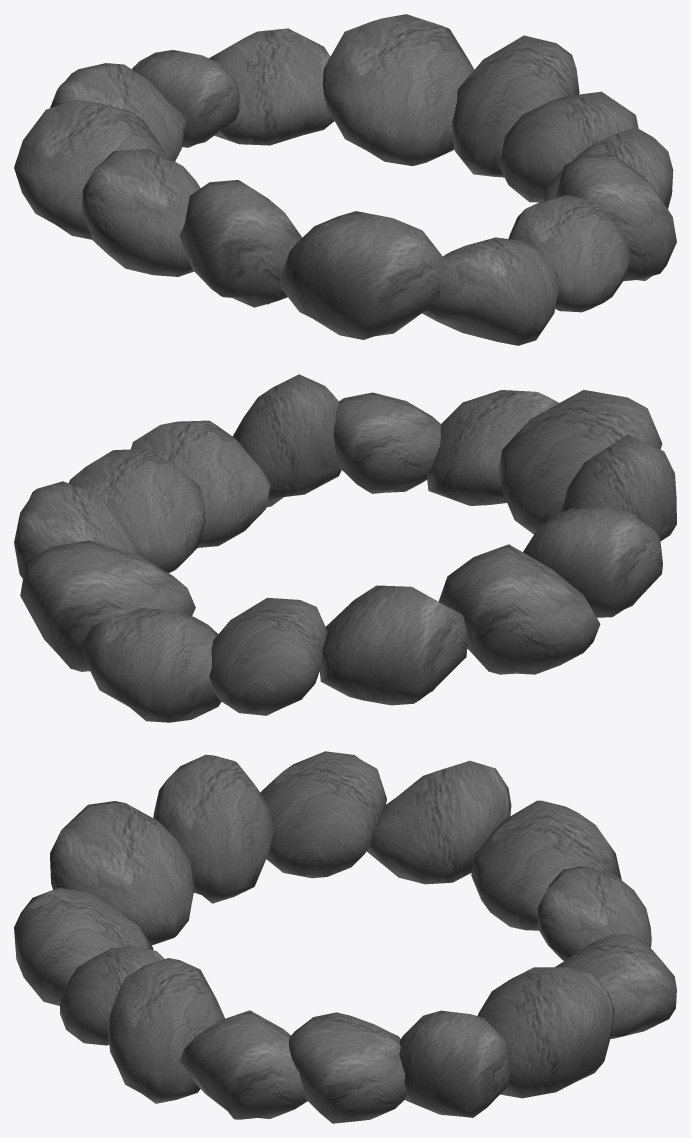
File: StoneRing1Shape.dae
3 views of the same model, one above another, from view 1: azimuth 30°, elevation 25°; view 2: azimuth 150°, elevation 25°; view 3: azimuth 270°, elevation 25° (orthographic). The views are drawn at different scales.
Parts seen in each view (by area): view 1: StoneRing1; view 2: StoneRing1; view 3: StoneRing1.
Part boxes in pixels (left/top/right/bottom): StoneRing1: left=14, top=14, right=676, bottom=345; StoneRing1: left=14, top=374, right=676, bottom=722; StoneRing1: left=14, top=751, right=676, bottom=1123.
Size of the model in its own units: 7.31 by 2.19 by 7.84.
